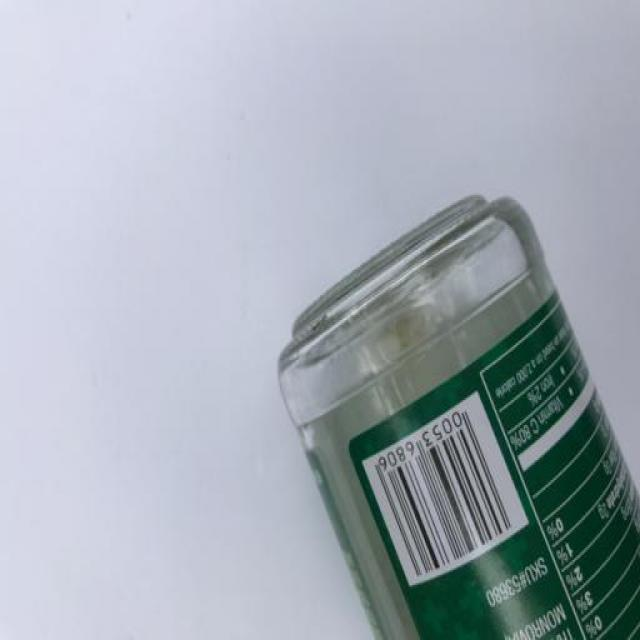glass: (253, 182, 640, 640)
